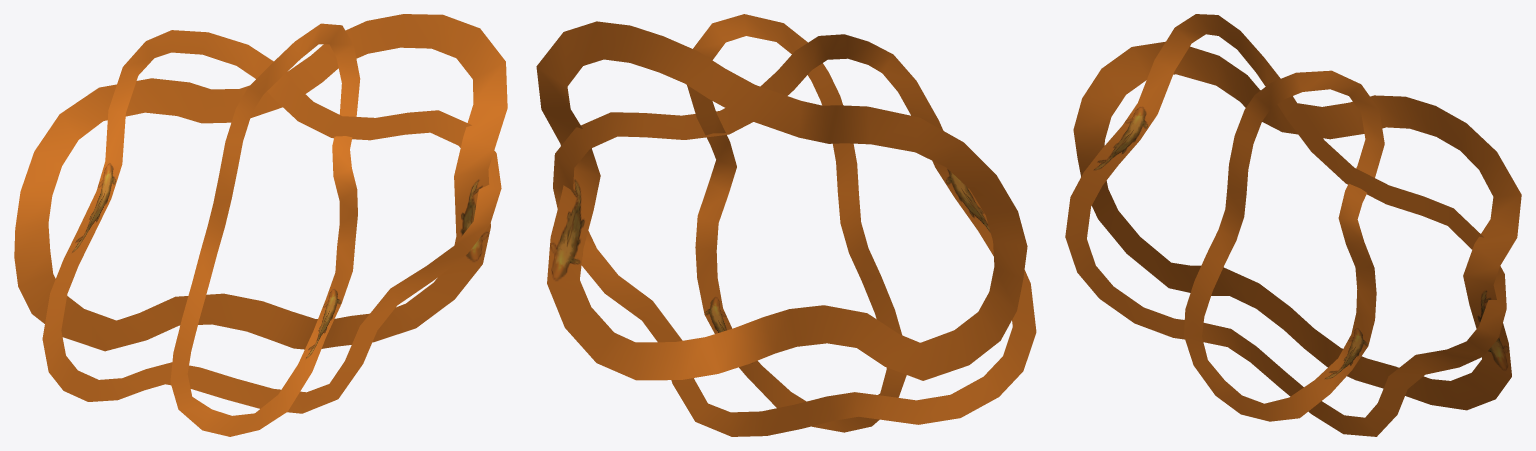
Rendered from Mesh_fish_xyj.FBX.
3 views of the same model, side by side, from view 1: azimuth 30°, elevation 25°; view 2: azimuth 150°, elevation 25°; view 3: azimuth 330°, elevation 25° (orthographic). The views are drawn at different scales.
Parts seen in each view (by area): view 1: misc_ef_fish_01a_d17; view 2: misc_ef_fish_01a_d17; view 3: misc_ef_fish_01a_d17.
Part boxes in pixels (bbox=[...]): misc_ef_fish_01a_d17: bbox=[14, 14, 507, 436]; misc_ef_fish_01a_d17: bbox=[536, 14, 1036, 436]; misc_ef_fish_01a_d17: bbox=[1065, 14, 1521, 436].
Size of the model in its own units: 74.04 by 60.83 by 8.97.
1 material, 1 textured.
